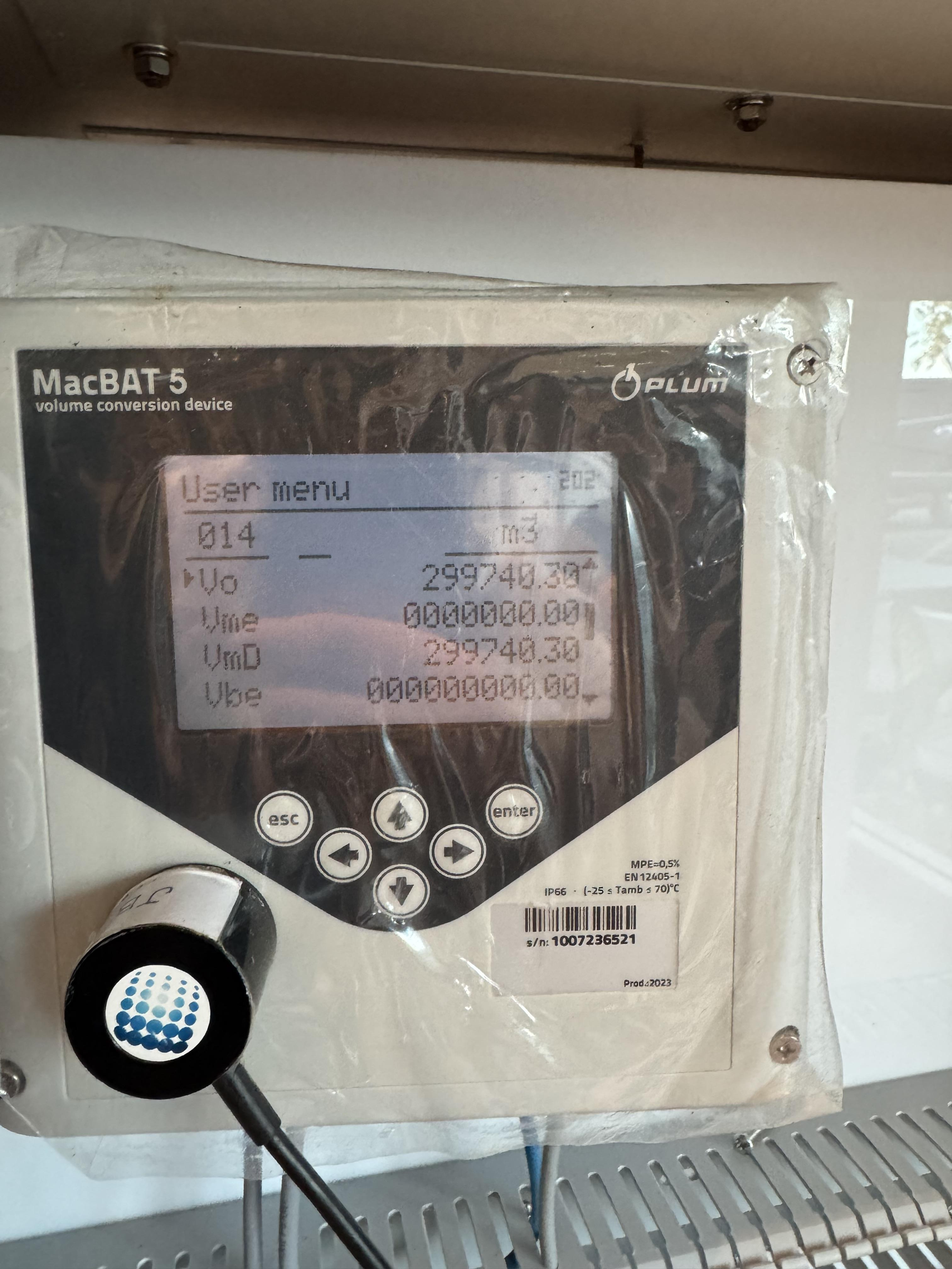digital_screen: (162, 453, 618, 731)
